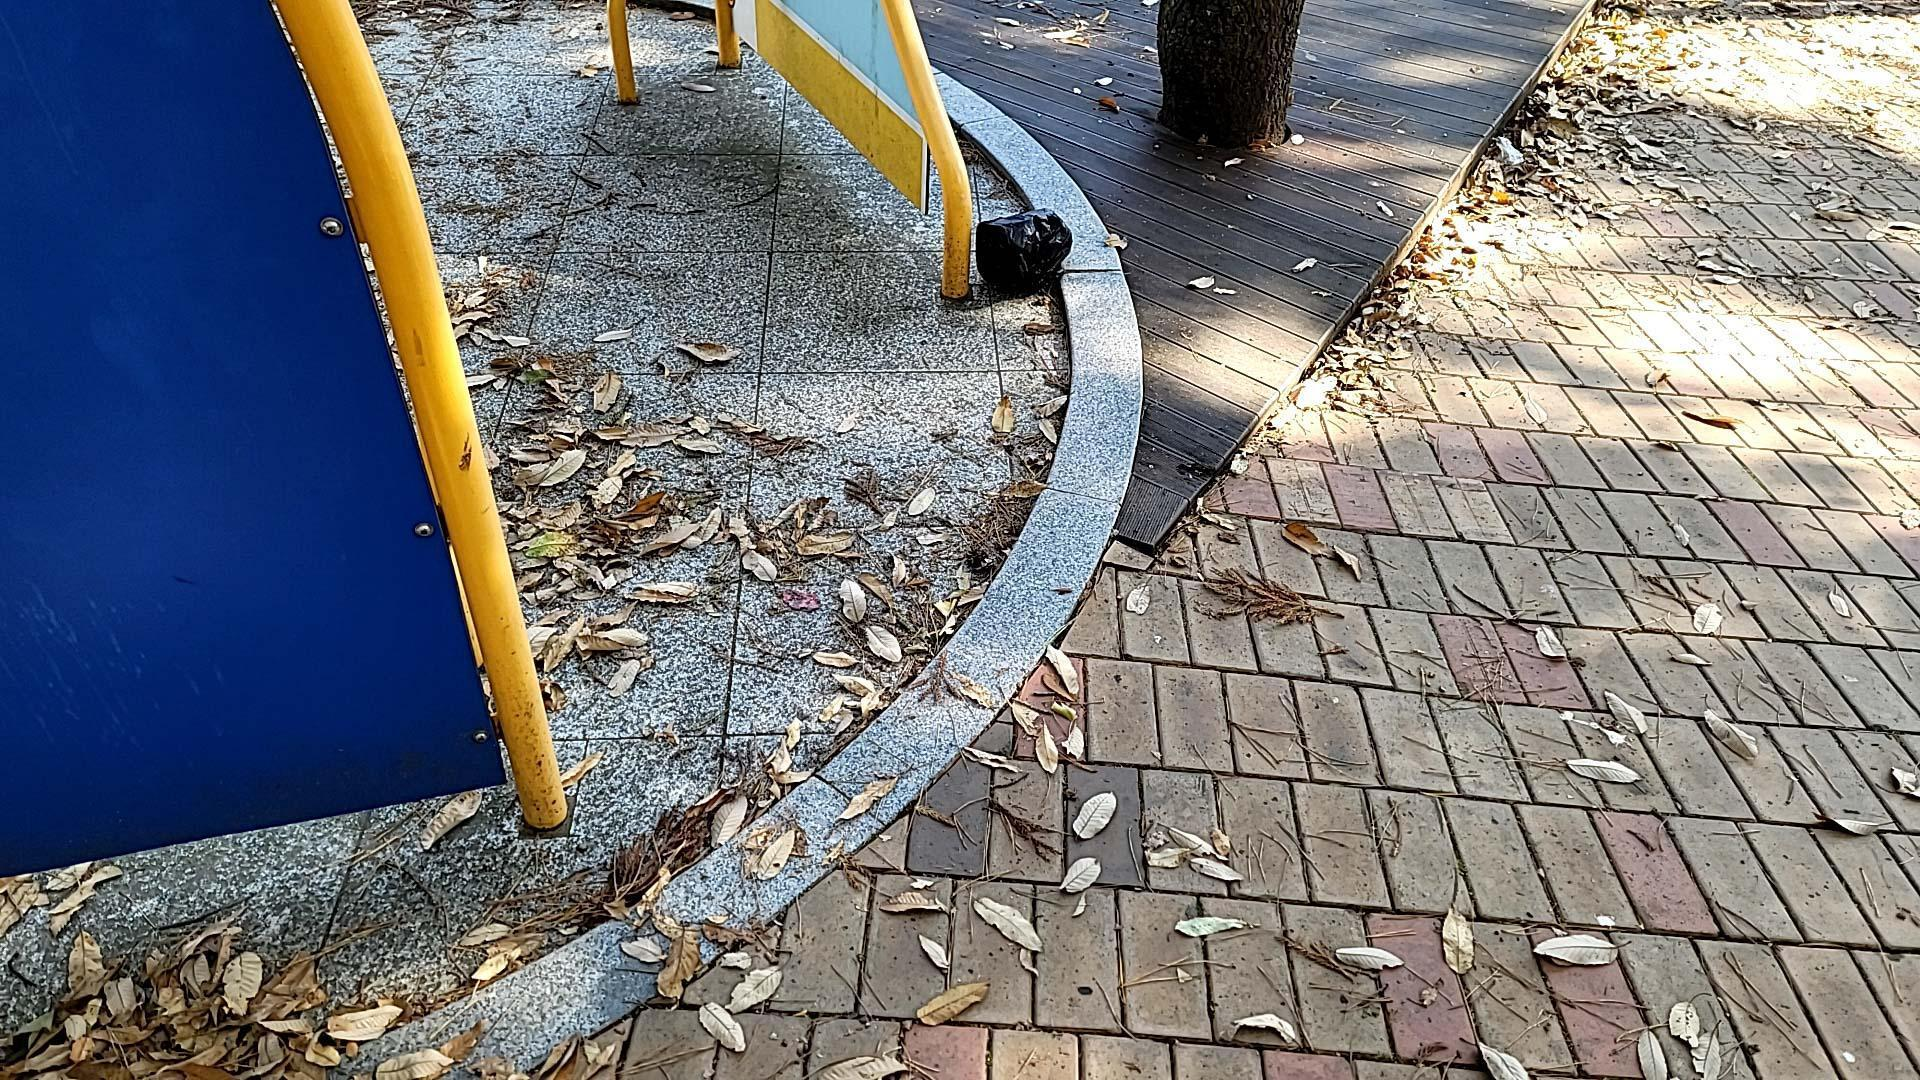black_bag: (973, 204, 1075, 301)
